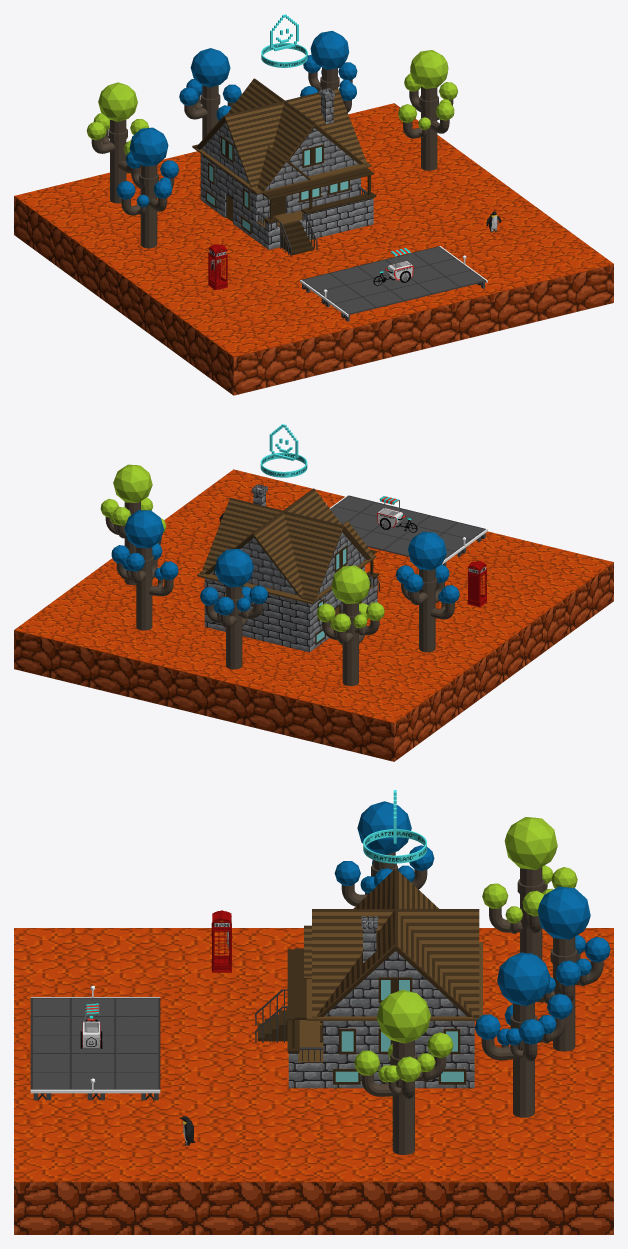
3 views of the same model, one above another, from view 1: azimuth 30°, elevation 25°; view 2: azimuth 150°, elevation 25°; view 3: azimuth 270°, elevation 25° (orthographic). The views are drawn at different scales.
Parts seen in each view (by area): view 1: Cube.001, Cube.586, TYPE_PREMIUM, OBJRANDOM_PHONEBOOTH, VEHICLES_SNOWBAL_BIKE; view 2: Cube.001, Cube.586, TYPE_PREMIUM, OBJRANDOM_PHONEBOOTH, VEHICLES_SNOWBAL_BIKE; view 3: Cube.001, Cube.586, TYPE_PREMIUM, OBJRANDOM_PHONEBOOTH, VEHICLES_SNOWBAL_BIKE.
Part boxes in pixels (x1=…): Cube.001: x1=14, y1=30, x2=613, y2=395; Cube.586: x1=192, y1=78, x2=376, y2=256; TYPE_PREMIUM: x1=261, y1=14, x2=307, y2=67; OBJRANDOM_PHONEBOOTH: x1=208, y1=244, x2=227, y2=290; VEHICLES_SNOWBAL_BIKE: x1=373, y1=248, x2=413, y2=285; Cube.001: x1=14, y1=464, x2=613, y2=761; Cube.586: x1=197, y1=484, x2=379, y2=652; TYPE_PREMIUM: x1=260, y1=424, x2=307, y2=477; OBJRANDOM_PHONEBOOTH: x1=467, y1=561, x2=487, y2=607; VEHICLES_SNOWBAL_BIKE: x1=377, y1=496, x2=417, y2=532; Cube.001: x1=14, y1=801, x2=613, y2=1234; Cube.586: x1=255, y1=869, x2=482, y2=1088; TYPE_PREMIUM: x1=363, y1=790, x2=426, y2=863; OBJRANDOM_PHONEBOOTH: x1=211, y1=910, x2=231, y2=972; VEHICLES_SNOWBAL_BIKE: x1=80, y1=1003, x2=102, y2=1048.
Bounding box in the file's own units: 4000 × 2511 × 4000.
Materials: 38 (6 with a texture image).
